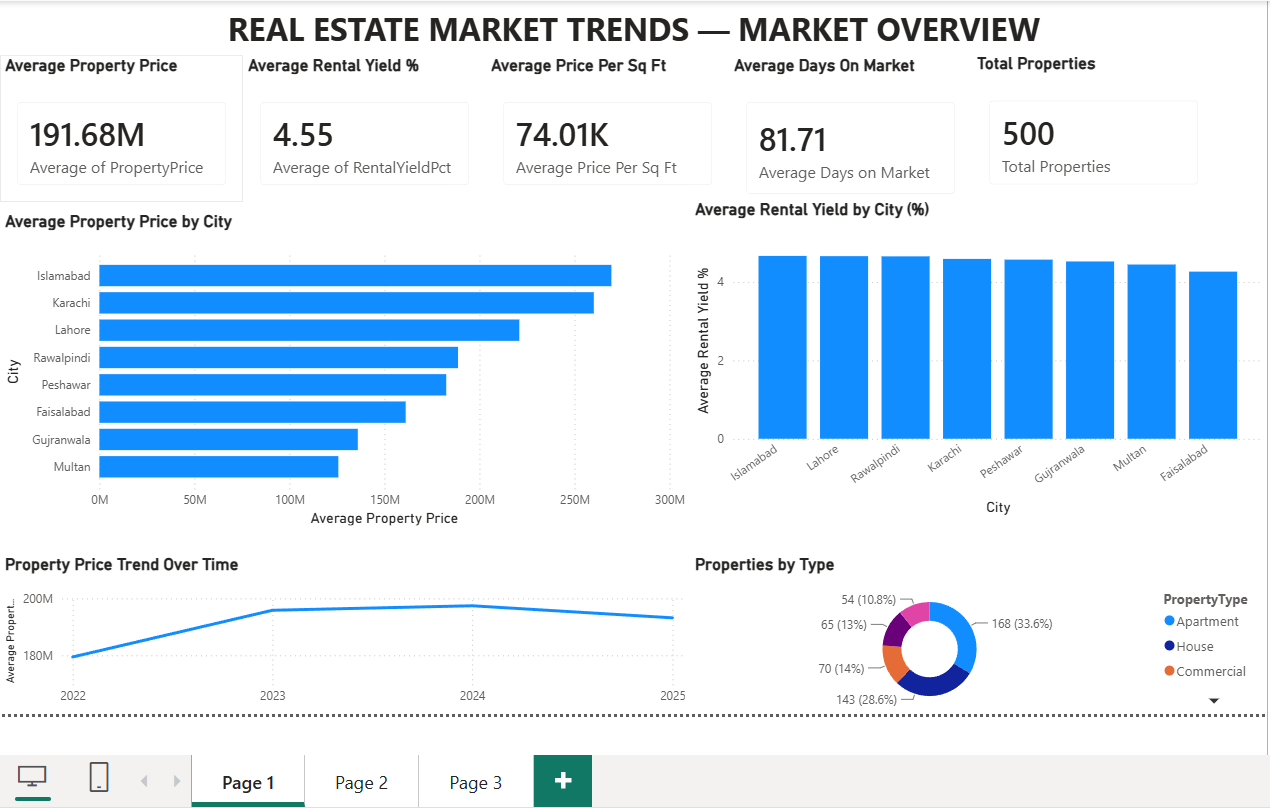

The page's visual inventory and layout, read from the dashboard file:
{"tool":"powerbi","page":{"name":"Page 1","canvas":[1280,720],"ordinal":0},"visuals":[{"type":"cardVisual","title":"Average Property Price","fields":{"Data":["Avg(RealEstateData.PropertyPrice)"]},"box":[0,54.5,245.3,148.4],"z":0},{"type":"textbox","box":[0,0,1279.5,54.5],"z":1000},{"type":"cardVisual","title":"Average Rental Yield %","fields":{"Data":["Avg(RealEstateData.RentalYieldPct)"]},"box":[245.3,54.5,245.3,148.4],"z":2000},{"type":"cardVisual","title":"Average Price Per Sq Ft ","fields":{"Data":["RealEstateData.Average Price Per Sq Ft"]},"box":[490.6,54.5,245.3,148.4],"z":3000},{"type":"cardVisual","title":"Average Days On Market","fields":{"Data":["RealEstateData.Average Days on Market"]},"box":[735.9,54.5,245.3,157.5],"z":4000},{"type":"cardVisual","title":"Total Properties","fields":{"Data":["RealEstateData.Total Properties"]},"box":[981.2,53,245,150],"z":5000},{"type":"clusteredBarChart","title":"Average Property Price by City","fields":{"Category":["RealEstateData.City"],"Y":["RealEstateData.Average Property Price"]},"box":[0,212,696.5,322.5],"z":6000},{"type":"clusteredColumnChart","title":"Average Rental Yield by City (%)","fields":{"Category":["RealEstateData.City"],"Y":["RealEstateData.Average Rental Yield %"]},"box":[696.5,199.9,583,324],"z":7000},{"type":"lineChart","title":"Property Price Trend Over Time","fields":{"Y":["RealEstateData.Average Property Price"],"Category":["RealEstateData.Date.Variation.Date Hierarchy.Year"]},"box":[0,558.7,696.5,160.5],"z":8000},{"type":"donutChart","title":"Properties by Type","fields":{"Category":["RealEstateData.PropertyType"],"Y":["CountNonNull(RealEstateData.PropertyID)"]},"box":[696.5,558.7,583,160.5],"z":9000}]}

Visuals, with their boxes on the page's 1280x720 design canvas (x1, y1, x2, y2). These are canvas units, not pixel positions in the 1270x808 screenshot, which may show the page scaled, cropped or inside an application window:
"Average Property Price" cardVisual: locate(0, 54, 245, 203)
textbox: locate(0, 0, 1280, 54)
"Average Rental Yield %" cardVisual: locate(245, 54, 491, 203)
"Average Price Per Sq Ft " cardVisual: locate(491, 54, 736, 203)
"Average Days On Market" cardVisual: locate(736, 54, 981, 212)
"Total Properties" cardVisual: locate(981, 53, 1226, 203)
"Average Property Price by City" clusteredBarChart: locate(0, 212, 696, 534)
"Average Rental Yield by City (%)" clusteredColumnChart: locate(696, 200, 1280, 524)
"Property Price Trend Over Time" lineChart: locate(0, 559, 696, 719)
"Properties by Type" donutChart: locate(696, 559, 1280, 719)
